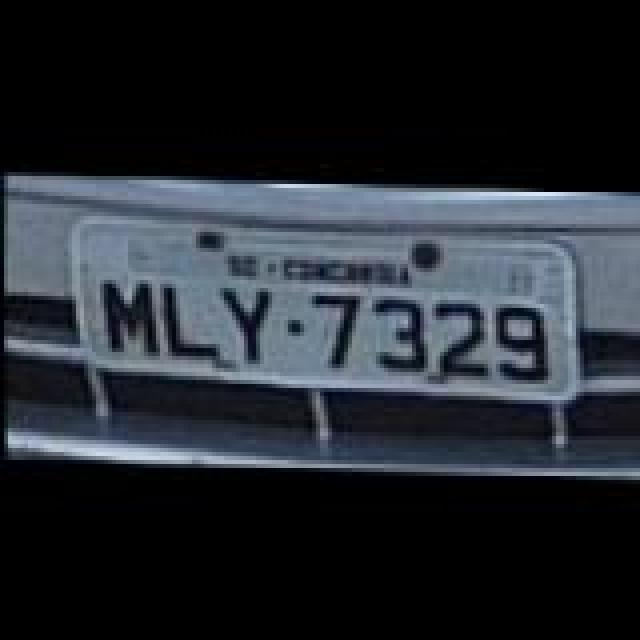2: (430, 296, 498, 376)
3: (370, 292, 438, 368)
7: (308, 286, 372, 362)
9: (492, 298, 556, 378)
L: (156, 282, 228, 358)
M: (98, 276, 166, 352)
Y: (216, 280, 280, 360)
